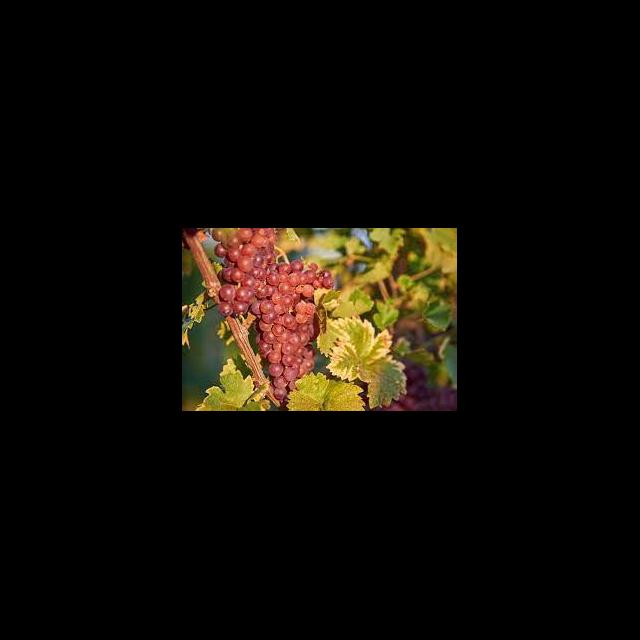grape: (210, 228, 334, 404)
